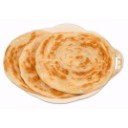parota: (22, 33, 106, 100), (5, 33, 87, 97), (41, 31, 112, 90)
